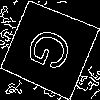G: (24, 24, 82, 79)
